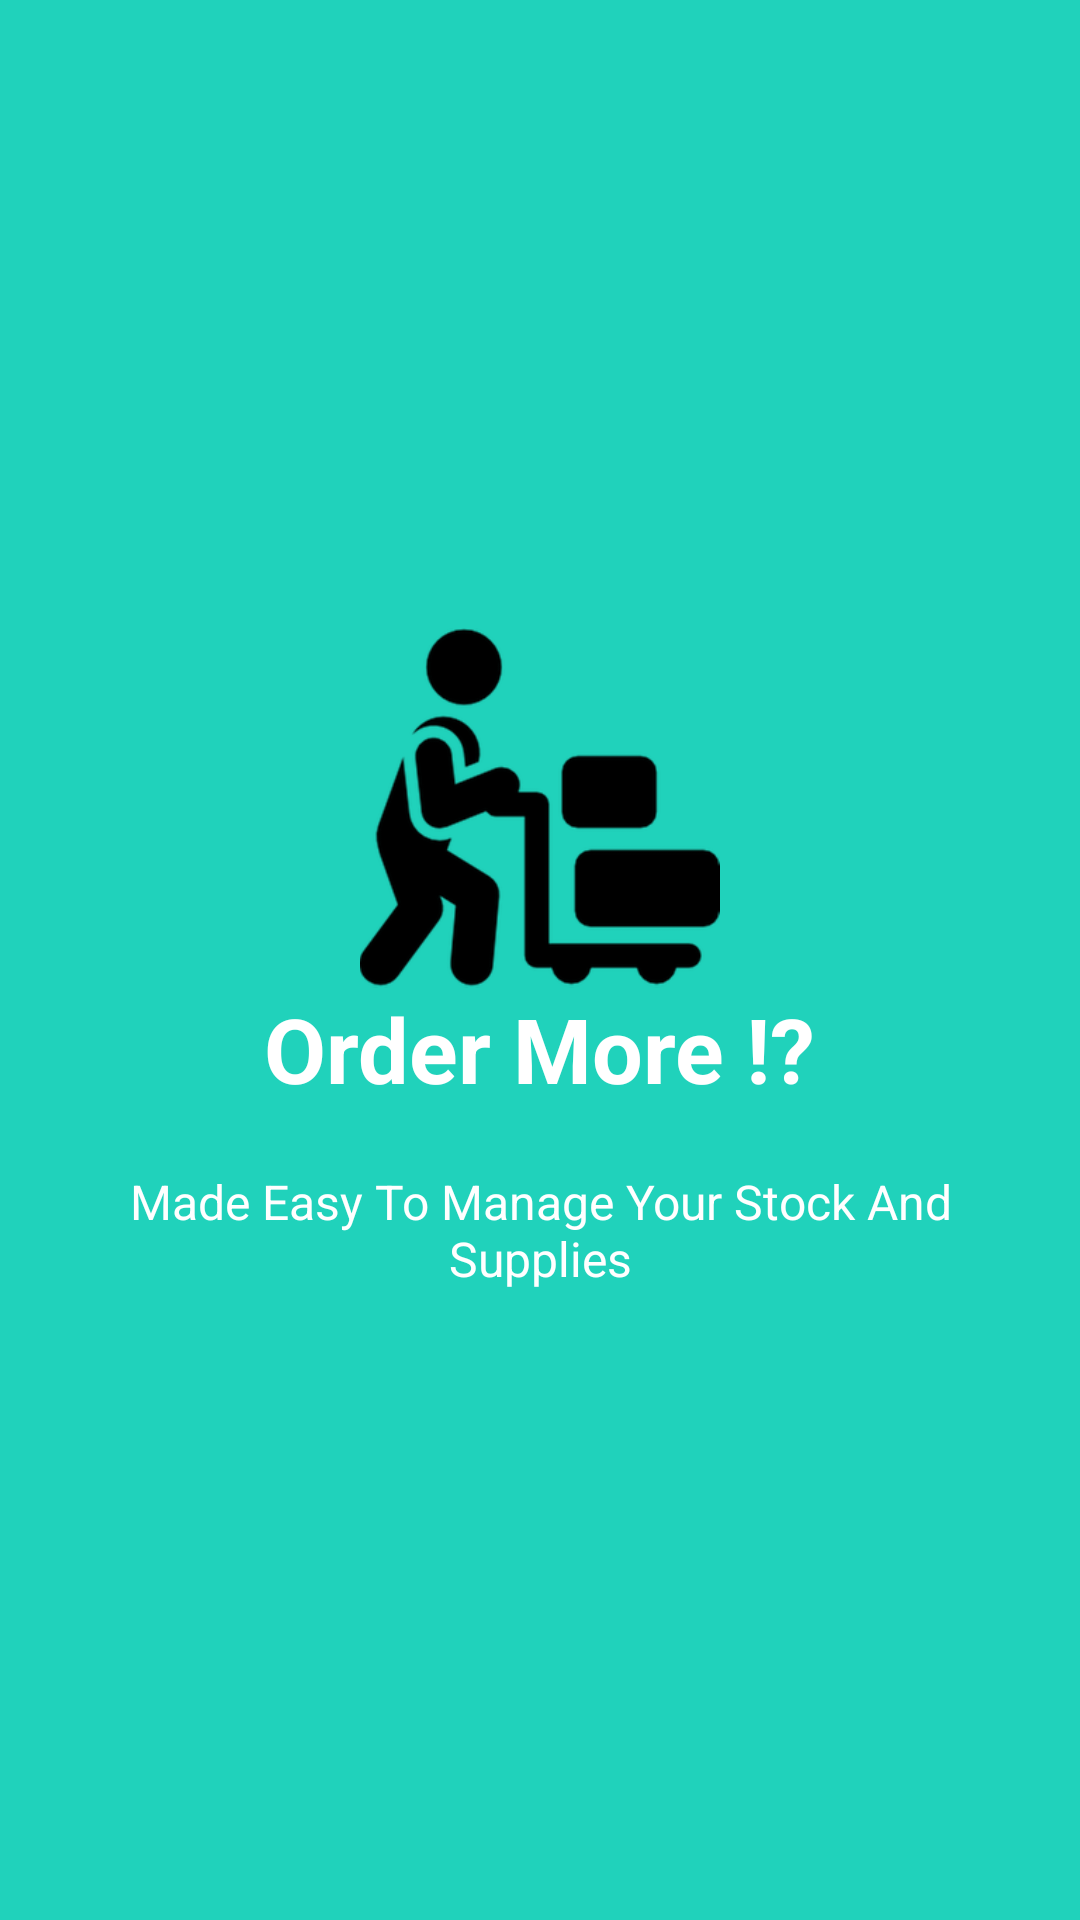

Icon click points for this 1080px x 1920px phone screenshot, format [x,y]:
stock supplier: [540,807]
